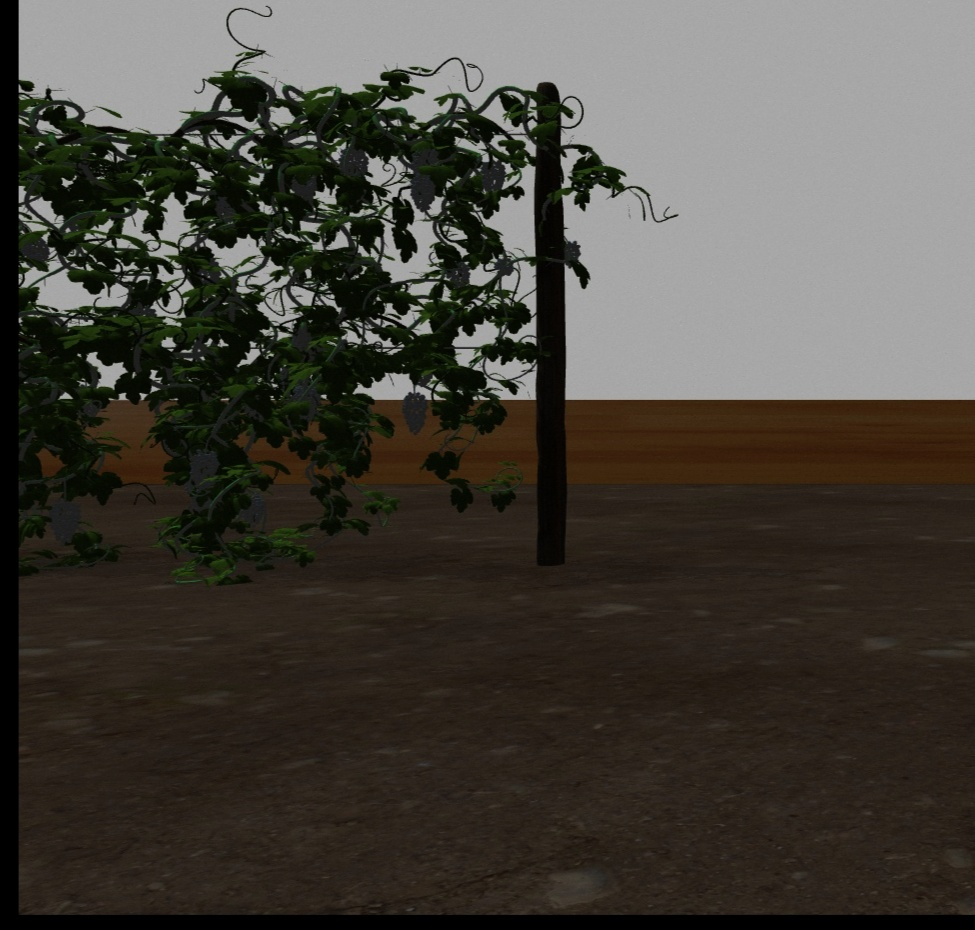grape: (49, 499, 81, 543), (189, 448, 219, 494), (399, 389, 427, 433), (410, 174, 436, 210), (240, 491, 265, 526), (290, 170, 317, 202), (338, 148, 368, 176), (480, 160, 506, 192), (22, 239, 49, 262), (448, 261, 469, 287), (564, 239, 581, 268), (292, 326, 312, 350)
